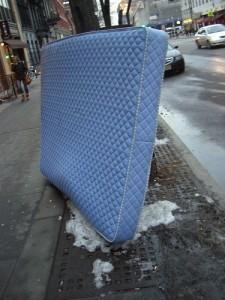Bed-Mattress: (41, 28, 168, 243)
